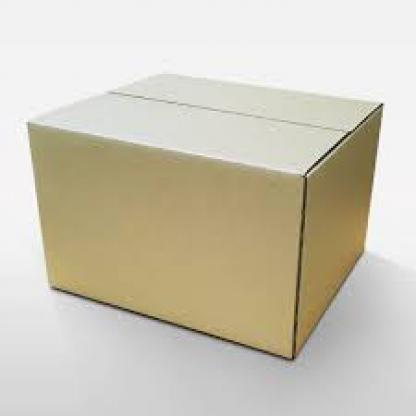CARDBOARD: (24, 70, 381, 359), (26, 122, 303, 359), (28, 72, 379, 174), (294, 102, 383, 357)
